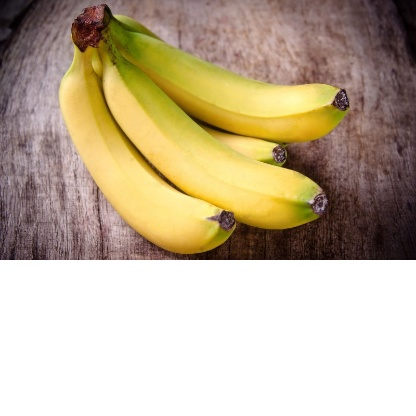chuoi: (53, 6, 351, 255)
